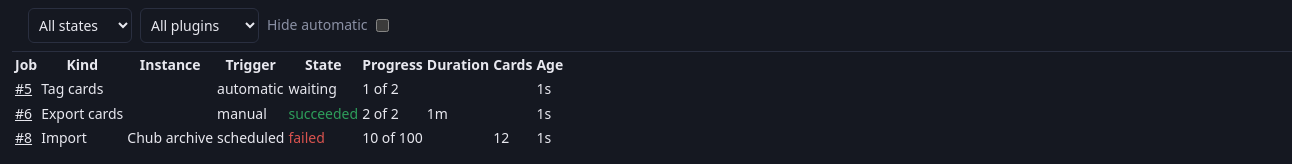
it: the list hides automatic jobs
Expected: the text "Tag cards" is shown, 40,78 -> 124,101
Expected: the text "automatic" is shown, 216,78 -> 286,101
Click the checkbox labelled "Hide automatic" at (382, 26), box 376,19 -> 388,32
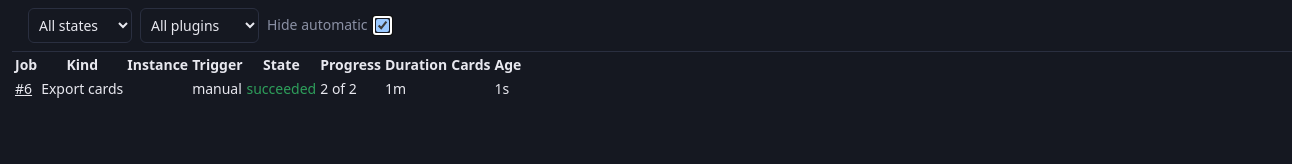
Expected: the text "manual" is shown, 191,78 -> 244,101
Expected: the text "Tag cards" is gone
